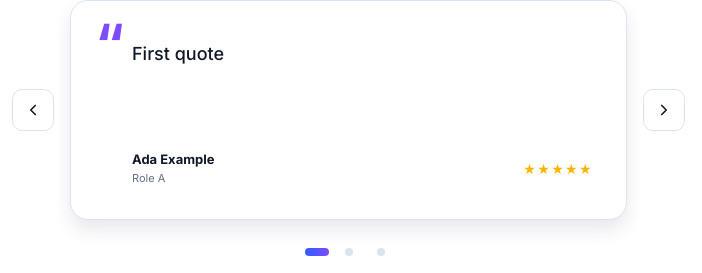
Test: Previous slides the other way: new card in from the left, old card out to the right
This screenshot has width=702, height=273.
What coordinates should you click on to do the following:
click the button named "Previous testimonial"
I would click on:
 (33, 110)
Its box is [12,89,54,131].
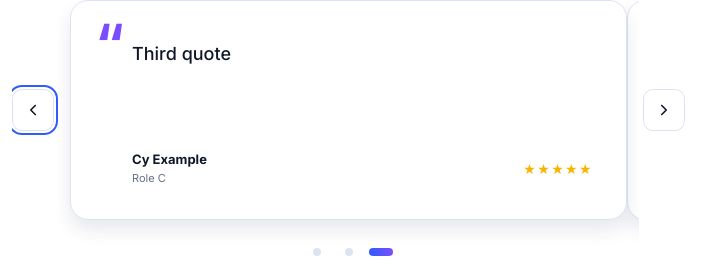
Expected: the element showing "“ Third quote Cy Example Role C ★★★★★" is shown
